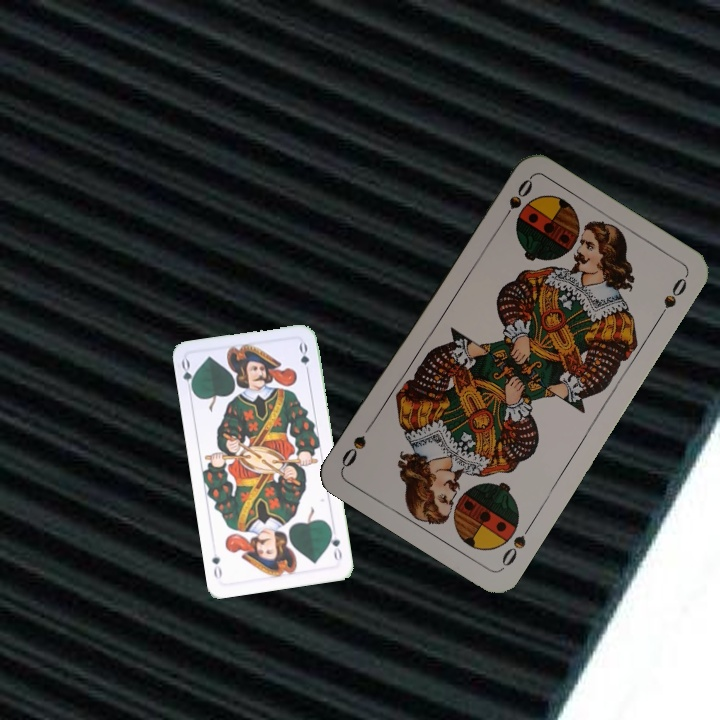GO: (177, 356, 198, 396), (325, 525, 344, 563)
SO: (496, 175, 536, 228), (497, 519, 535, 572)
